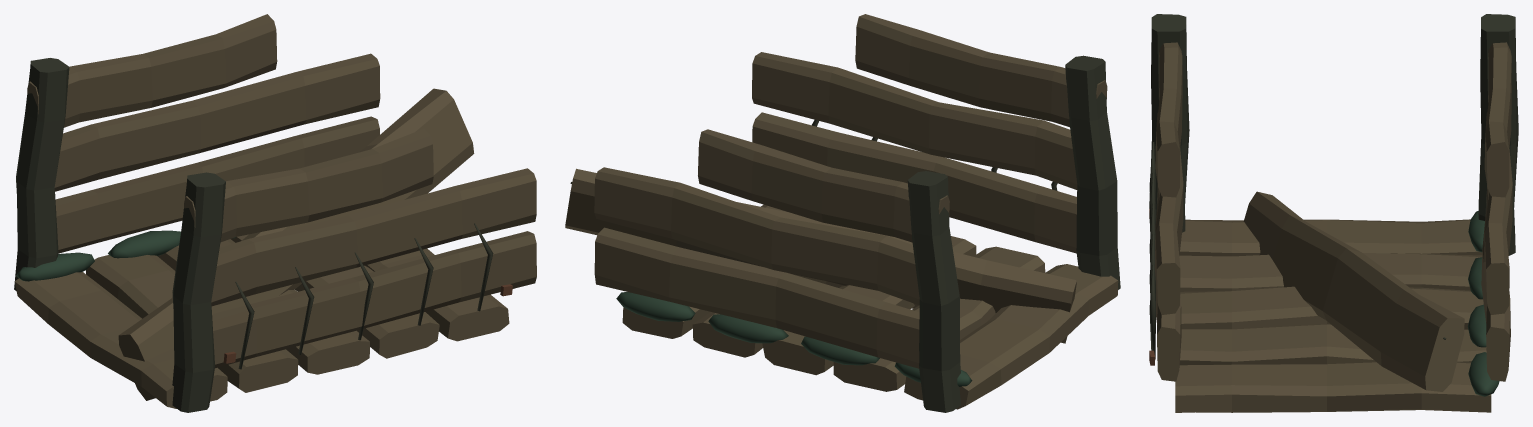
Rendered from collapsed-crates.glb.
The picture shows the model from 3 angles, left to right: view 1: azimuth 30°, elevation 25°; view 2: azimuth 150°, elevation 25°; view 3: azimuth 270°, elevation 25°; orthographic projection. The views are drawn at different scales.
Parts seen in each view (by area): view 1: Surface; view 2: Surface; view 3: Surface.
Part boxes in pixels (box(x1,y1,x2,y2)): Surface: box(14, 14, 536, 412); Surface: box(565, 14, 1120, 412); Surface: box(1149, 14, 1518, 412).
Bounding box in the file's own units: 0.7949 × 0.4338 × 0.5613.
